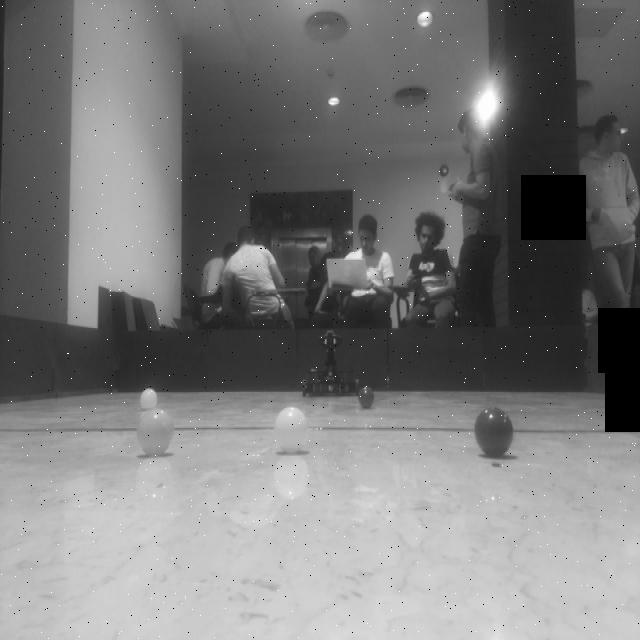ball: (472, 403, 514, 458), (137, 404, 176, 456), (273, 401, 311, 454), (135, 385, 164, 411), (355, 388, 379, 412)
